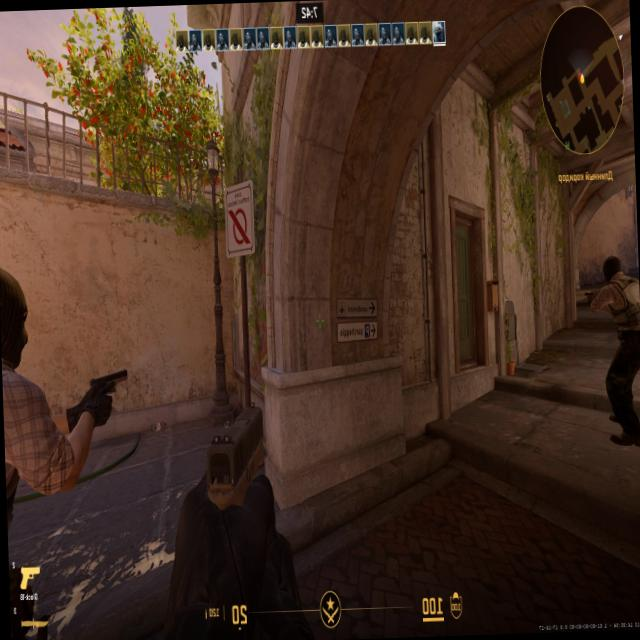T: (610, 259, 636, 410)
T_heat: (610, 262, 619, 289)
